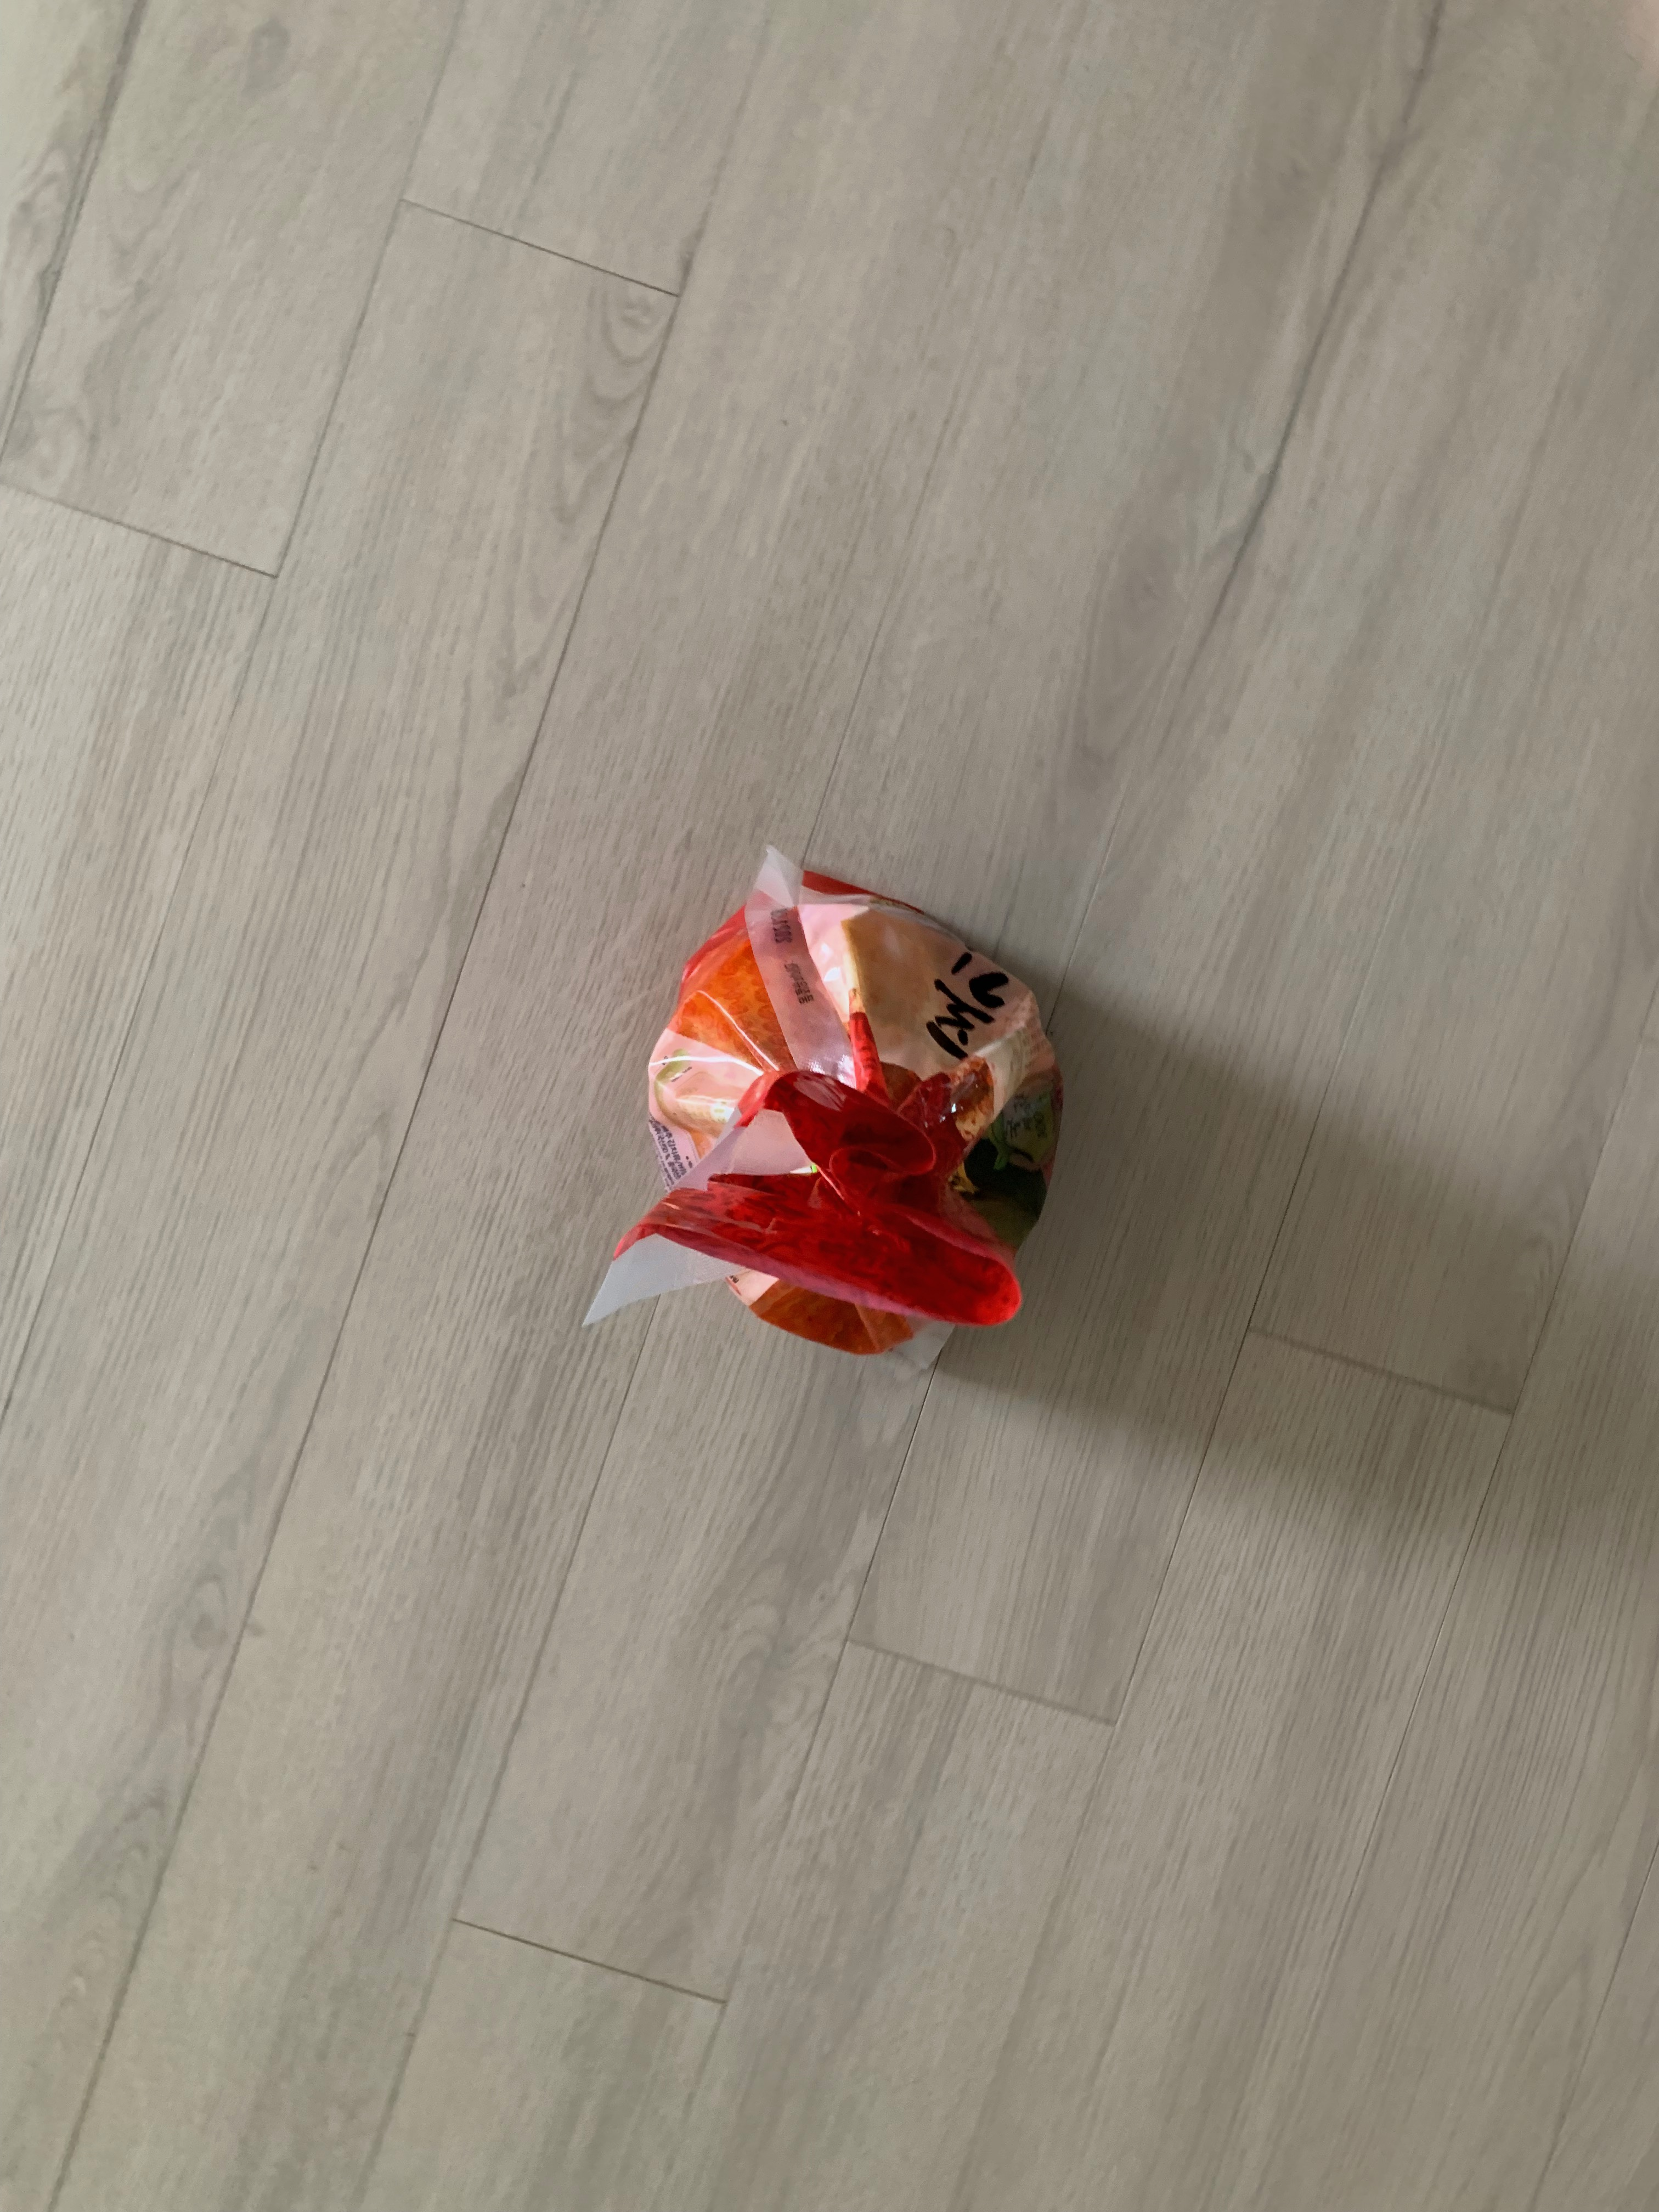kimchi: (638, 876, 1065, 1360)
